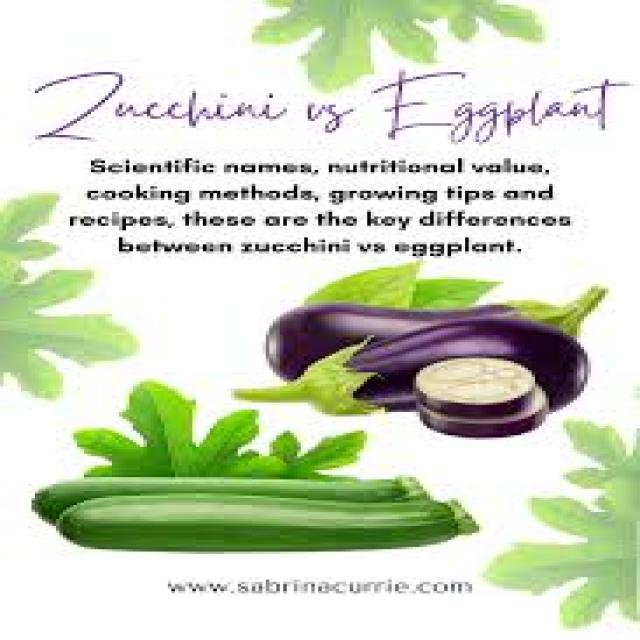Zucchini: (52, 496, 485, 558)
